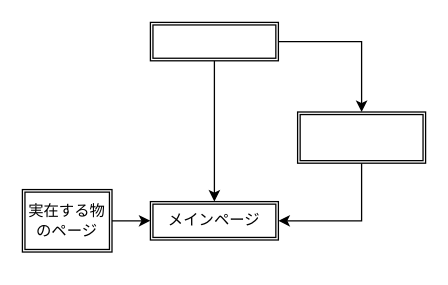
This 448x285 diagram has some shape labels left out. Here are the shapes that lost their labels. From the top down, the centre of each, then its label:
point (213, 41): トップページ
point (361, 137): サインイン・ ログインページ
